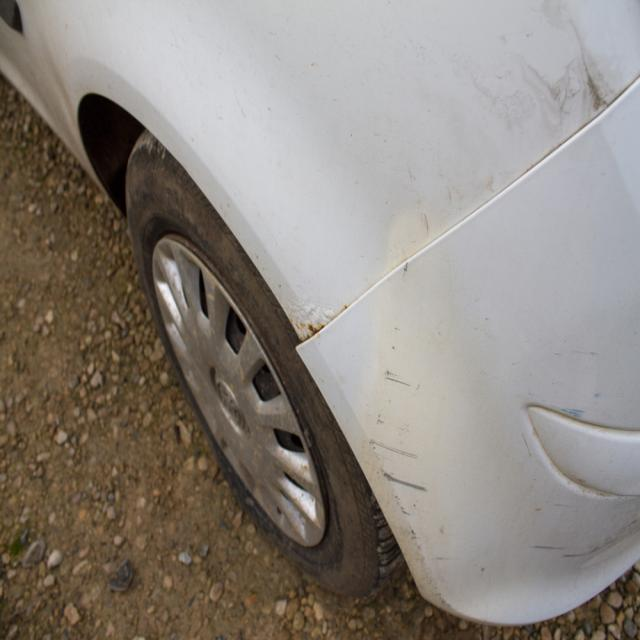scratch: (365, 304, 442, 562)
